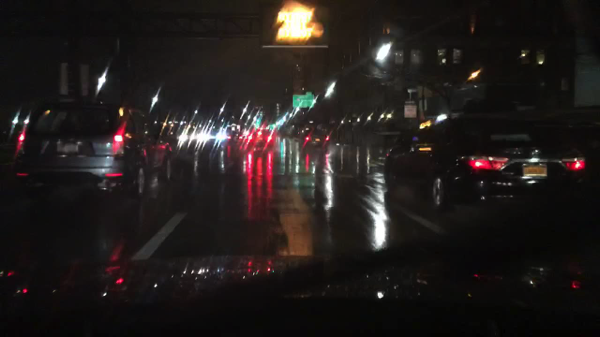car: (382, 110, 587, 213), (14, 98, 173, 199), (567, 107, 599, 195), (302, 128, 330, 150), (249, 128, 274, 146), (203, 127, 225, 147), (176, 128, 202, 144), (225, 132, 245, 143)
traffic sign: (291, 92, 314, 108), (404, 105, 417, 119), (403, 100, 416, 105)
